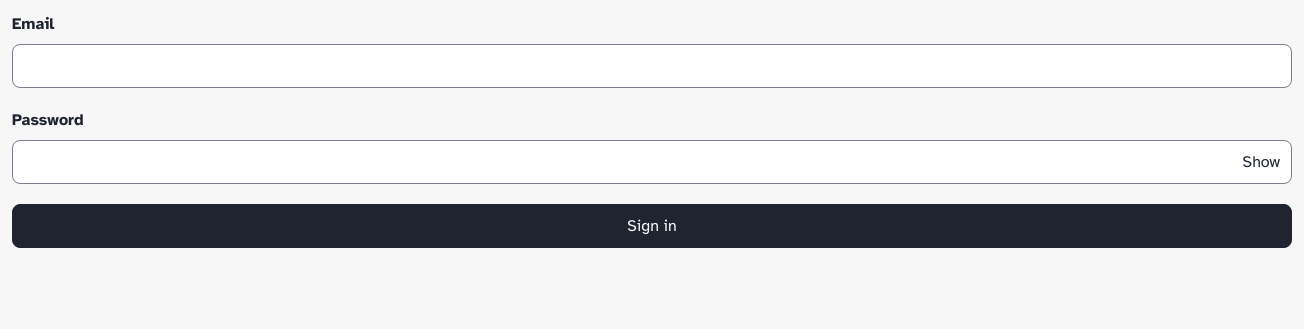
Scenario: AdminLoginForm › shows the rate-limit message
Step 1. Type "admin@example.com" into the field labelled "Email" → (652, 66), box [12, 44, 1292, 88]
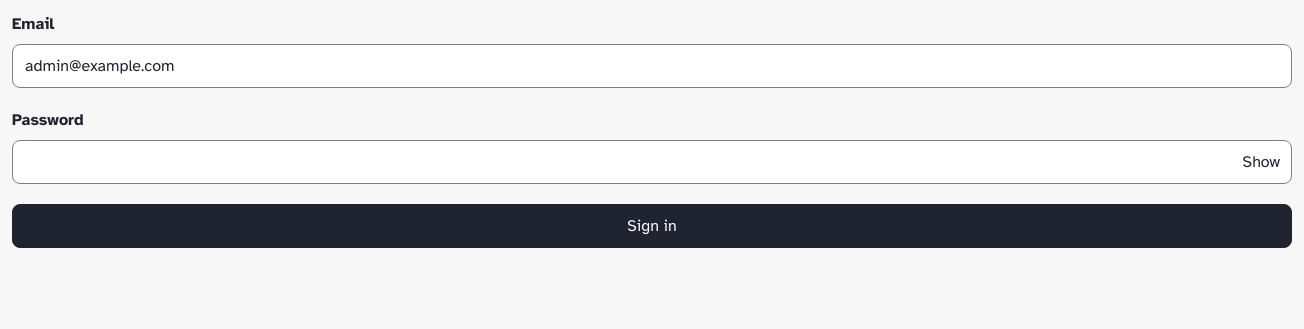
Step 2. Type "secret" into the password field labelled "Password" → (652, 162), box [12, 140, 1292, 184]
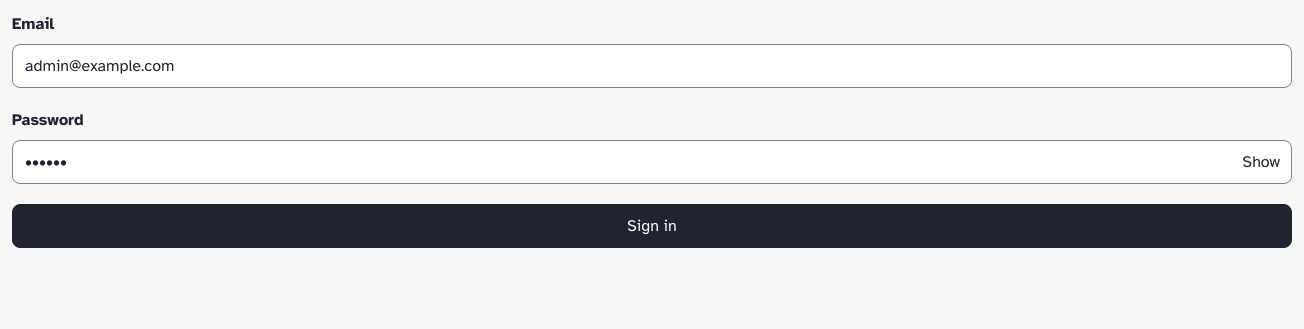
Step 3. Click the button "Sign in" → (652, 226), box [12, 204, 1292, 248]
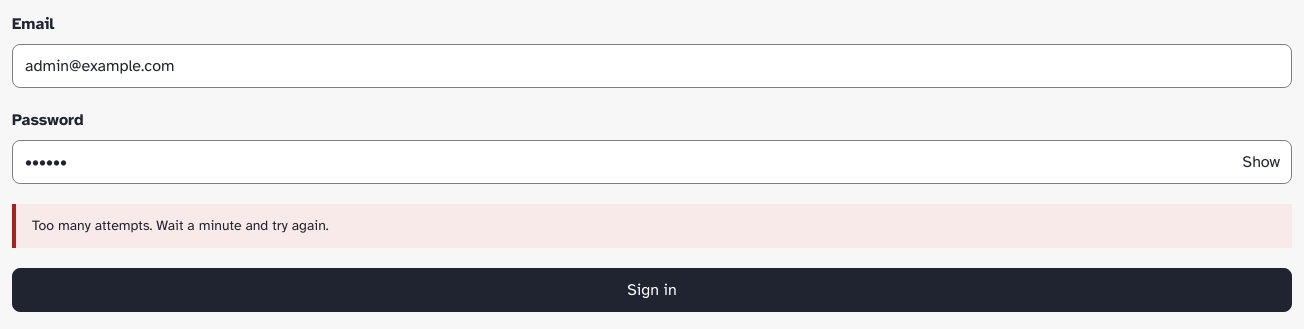
expect the message reads "Too many attempts. Wait a minute and try again.": met, box [32, 217, 329, 234]
